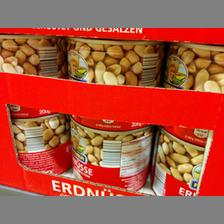Nuss: (68, 116, 152, 192), (64, 37, 160, 85), (11, 113, 71, 173), (150, 129, 202, 195), (162, 42, 222, 90), (0, 33, 64, 77)
